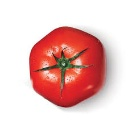tomato: (28, 25, 110, 108)
